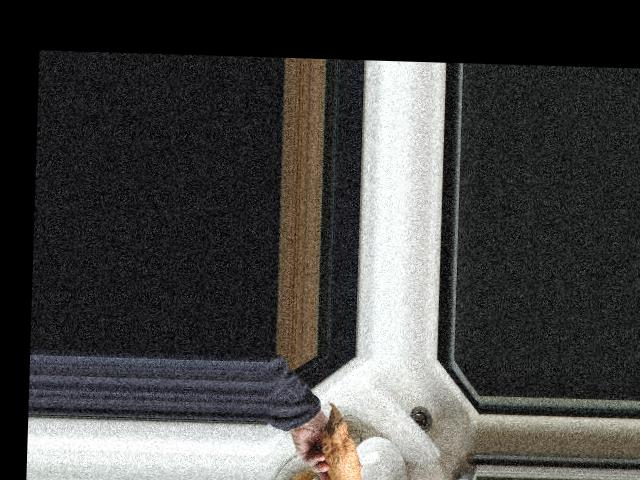sweet_potato: (319, 402, 366, 480)
